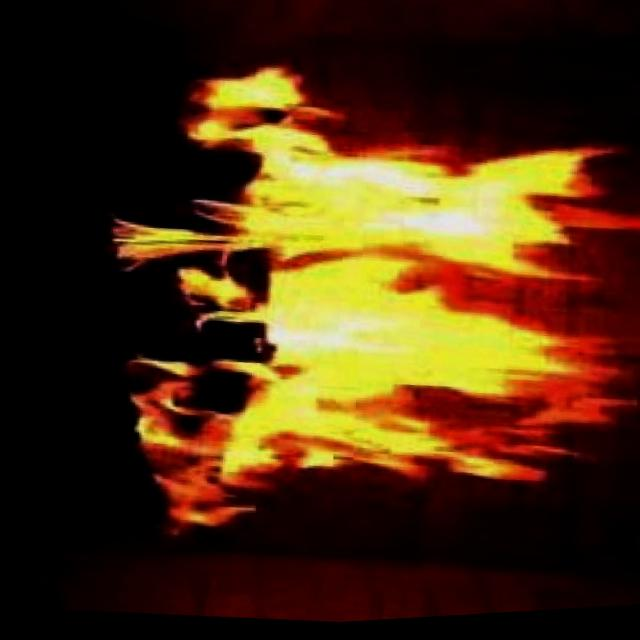Fire: (162, 80, 627, 518)
